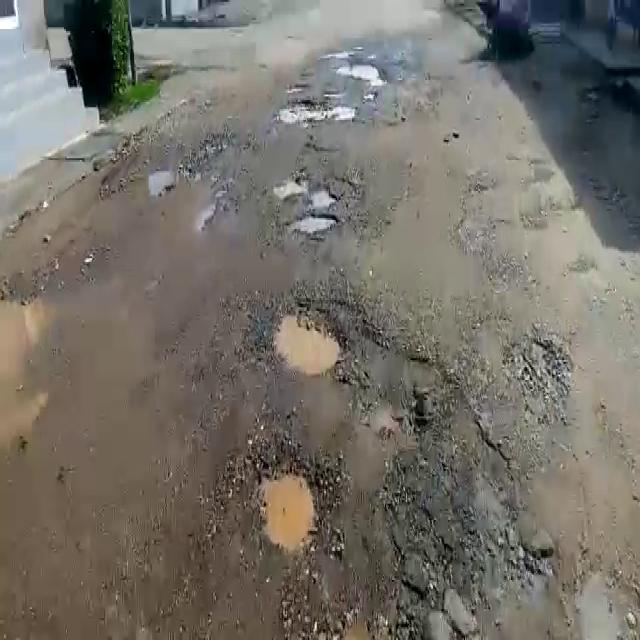Pothole: (251, 457, 323, 549), (271, 300, 345, 378), (276, 172, 336, 204), (274, 97, 338, 127), (285, 208, 338, 240), (333, 57, 388, 81)
